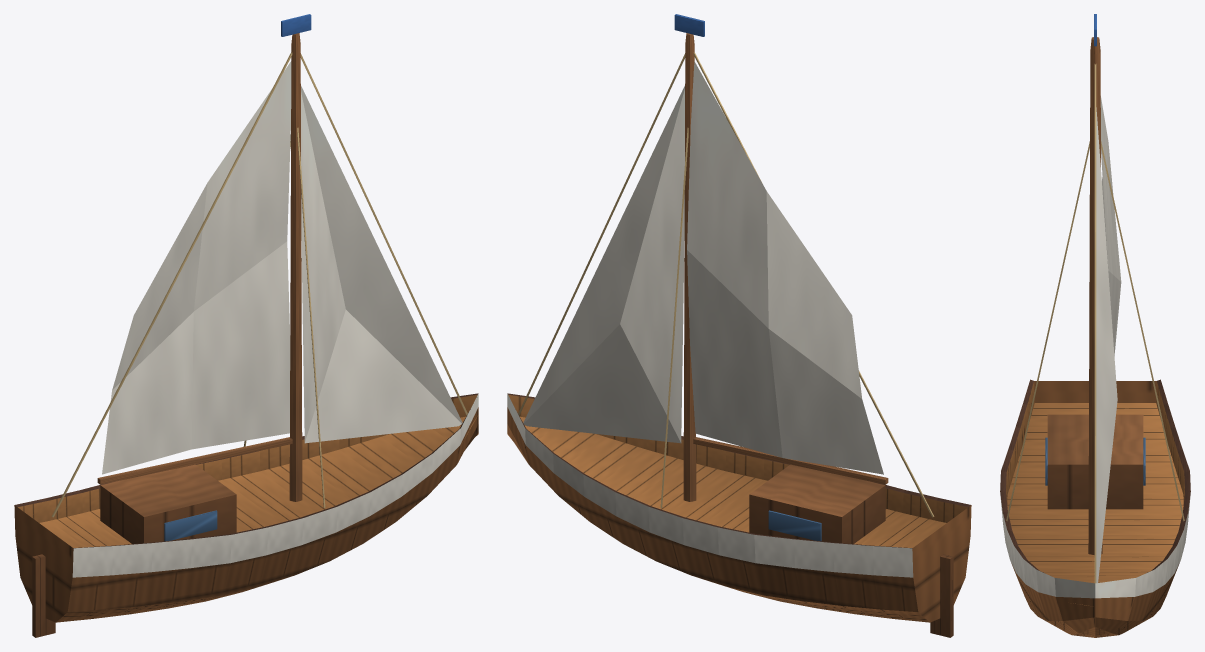
Rendered from boat_sailboat_01.glb.
The picture shows the model from 3 angles, left to right: view 1: azimuth 30°, elevation 25°; view 2: azimuth 150°, elevation 25°; view 3: azimuth 270°, elevation 25°; orthographic projection. The views are drawn at different scales.
Parts seen in each view (by area): view 1: boat_sailboat_01; view 2: boat_sailboat_01; view 3: boat_sailboat_01.
Boxes of the visible parts, x1,y1,x2,y2 form: boat_sailboat_01: (14,14,478,637); boat_sailboat_01: (507,14,971,637); boat_sailboat_01: (1000,14,1190,637).
Bounding box in the file's own units: 7.67 × 9.15 × 2.58.
1 material, 1 textured.
